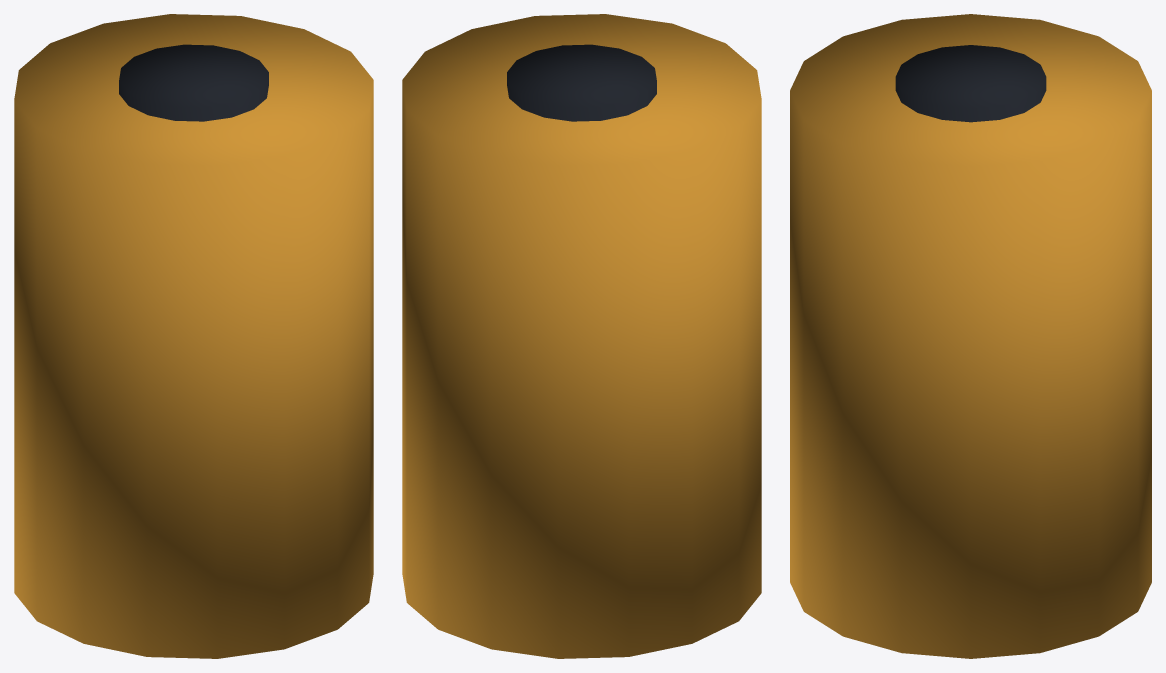
Rendered from 121_L105_PowerVia.fbx.
3 views of the same model, side by side, from view 1: azimuth 30°, elevation 25°; view 2: azimuth 150°, elevation 25°; view 3: azimuth 270°, elevation 25° (orthographic).
Visible parts, largest first — view 1: PowerVia_copper, PowerVia_black; view 2: PowerVia_copper, PowerVia_black; view 3: PowerVia_copper, PowerVia_black.
Boxes of the visible parts, x1,y1,x2,y2 form: PowerVia_copper: (14,14,373,658); PowerVia_black: (119,44,268,121); PowerVia_copper: (402,14,761,658); PowerVia_black: (507,44,656,121); PowerVia_copper: (790,14,1151,658); PowerVia_black: (895,45,1046,122).
Size of the model in its own units: 0.0012 by 0.0019 by 0.0012.
